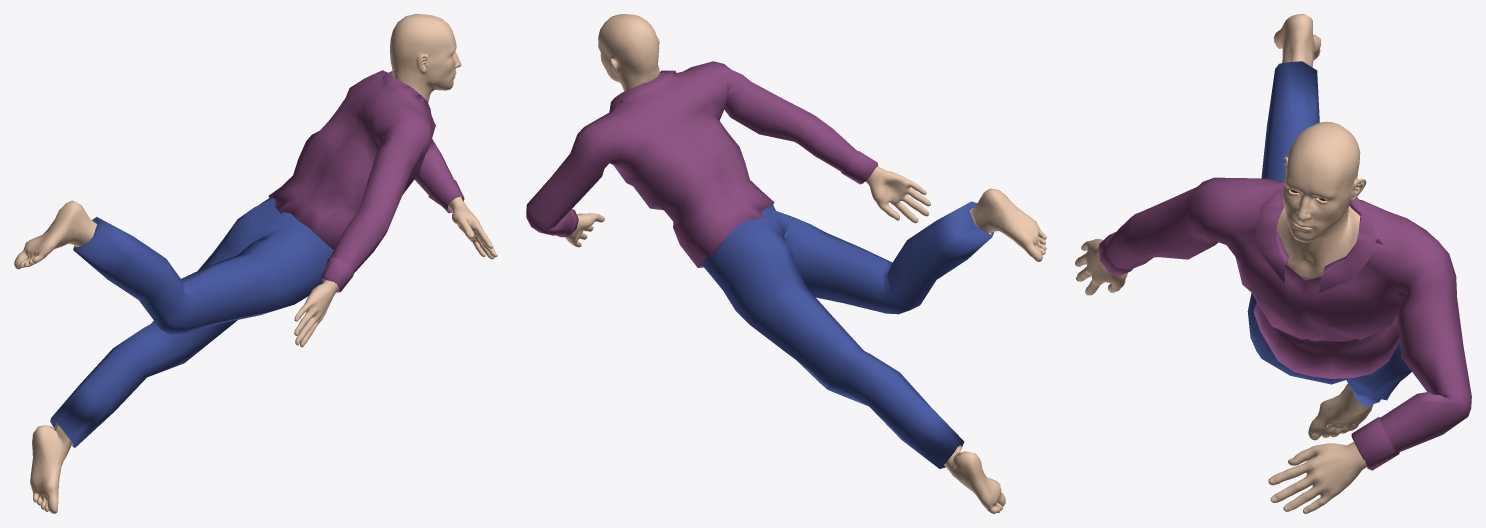
Rendered from float2_purple.dae.
The picture shows the model from 3 angles, left to right: view 1: azimuth 30°, elevation 25°; view 2: azimuth 150°, elevation 25°; view 3: azimuth 270°, elevation 25°; orthographic projection. The views are drawn at different scales.
Parts seen in each view (by area): view 1: human; view 2: human; view 3: human.
Boxes of the visible parts, x1,y1,x2,y2 form: human: (14, 14, 497, 513); human: (526, 14, 1046, 513); human: (1075, 14, 1471, 513).
Bounding box in the file's own units: 1.54 × 0.8076 × 1.26.
